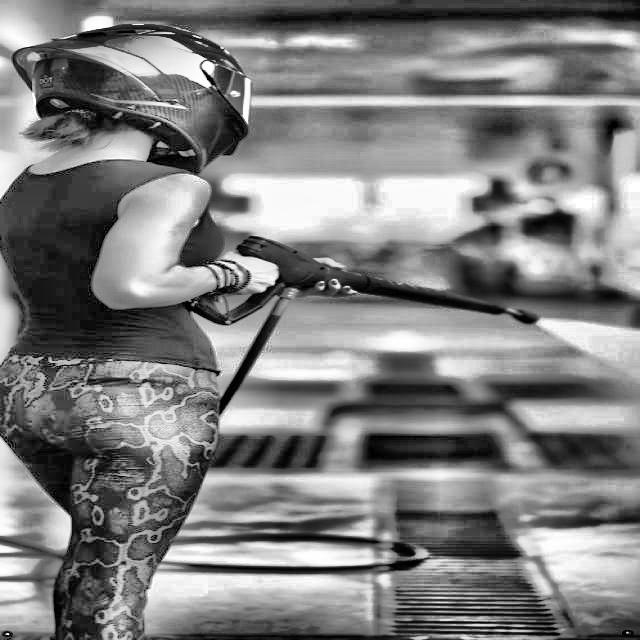Helmet: (4, 18, 257, 180)
